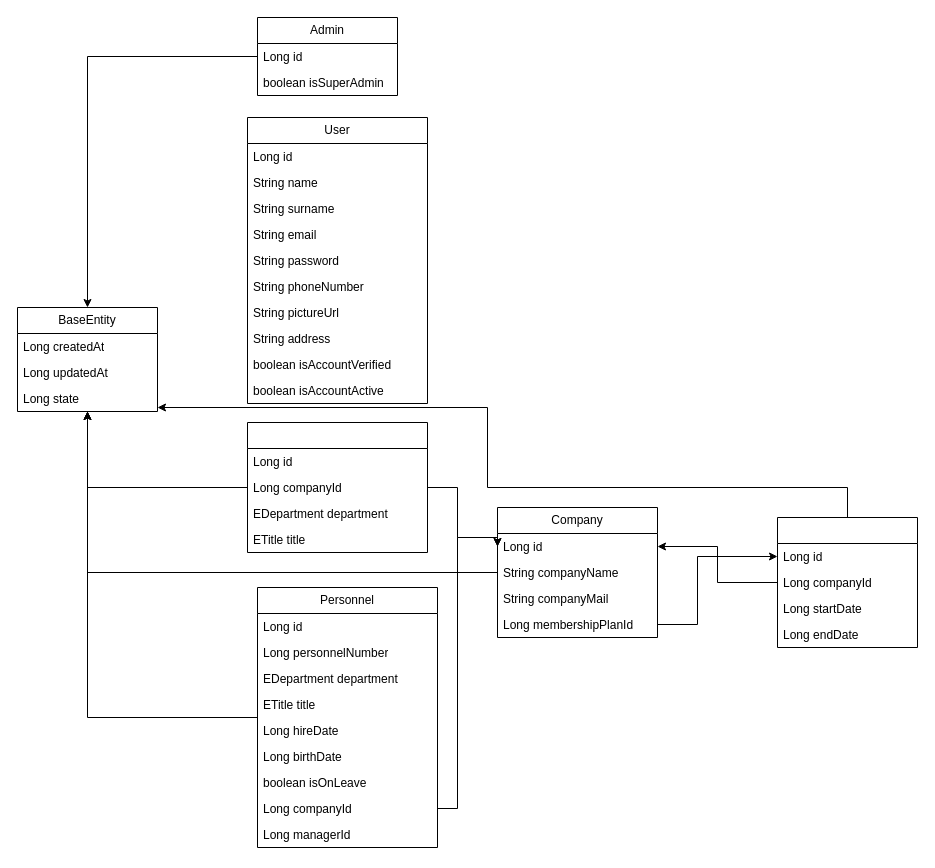
This 935x868 diagram has some shape labels left out. Here are the shapes that lost their labels. From the top down, the box of each, then its label:
(246, 422, 428, 552): Manager
(776, 516, 918, 648): MembershipPlan
